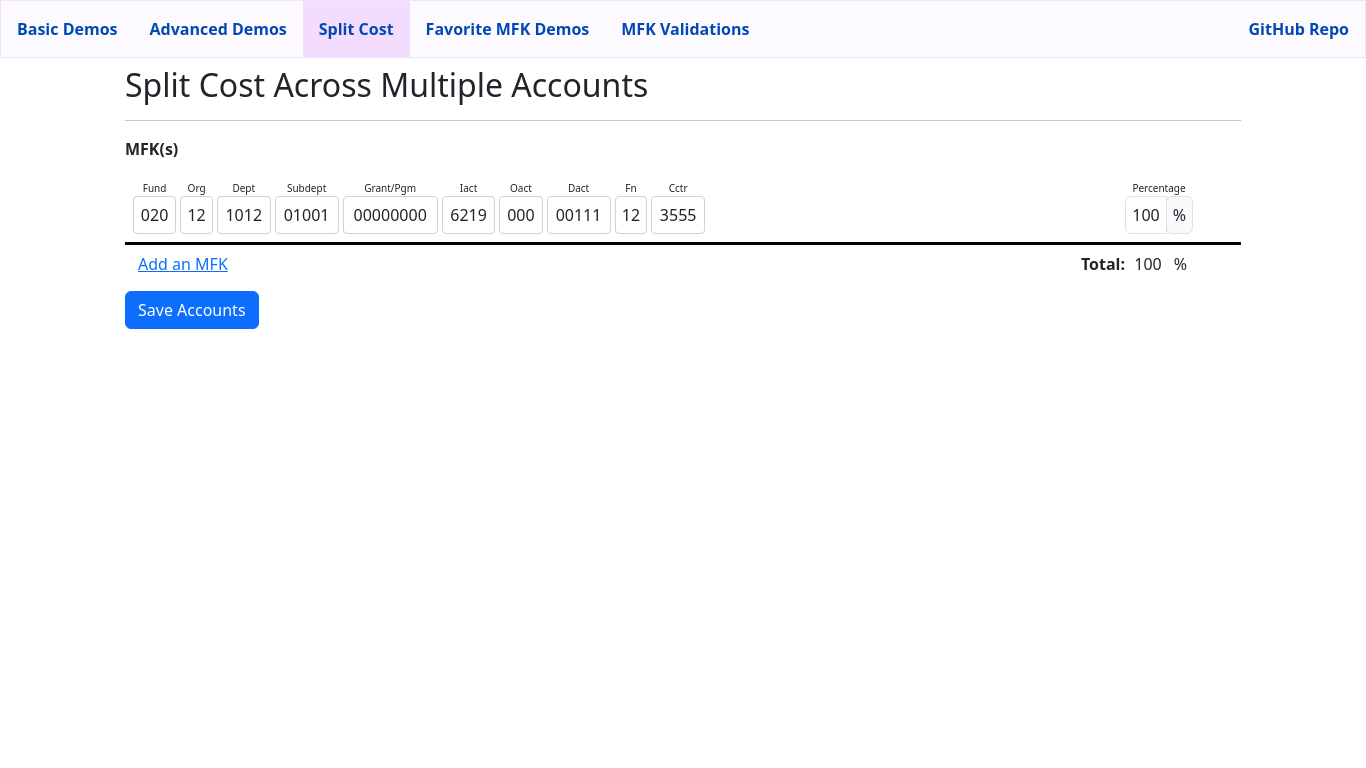
Test case: Split Cost Demos › should allow save two MFKs
Click the button with id "saveBtn": (192, 310) [125,291,259,329]
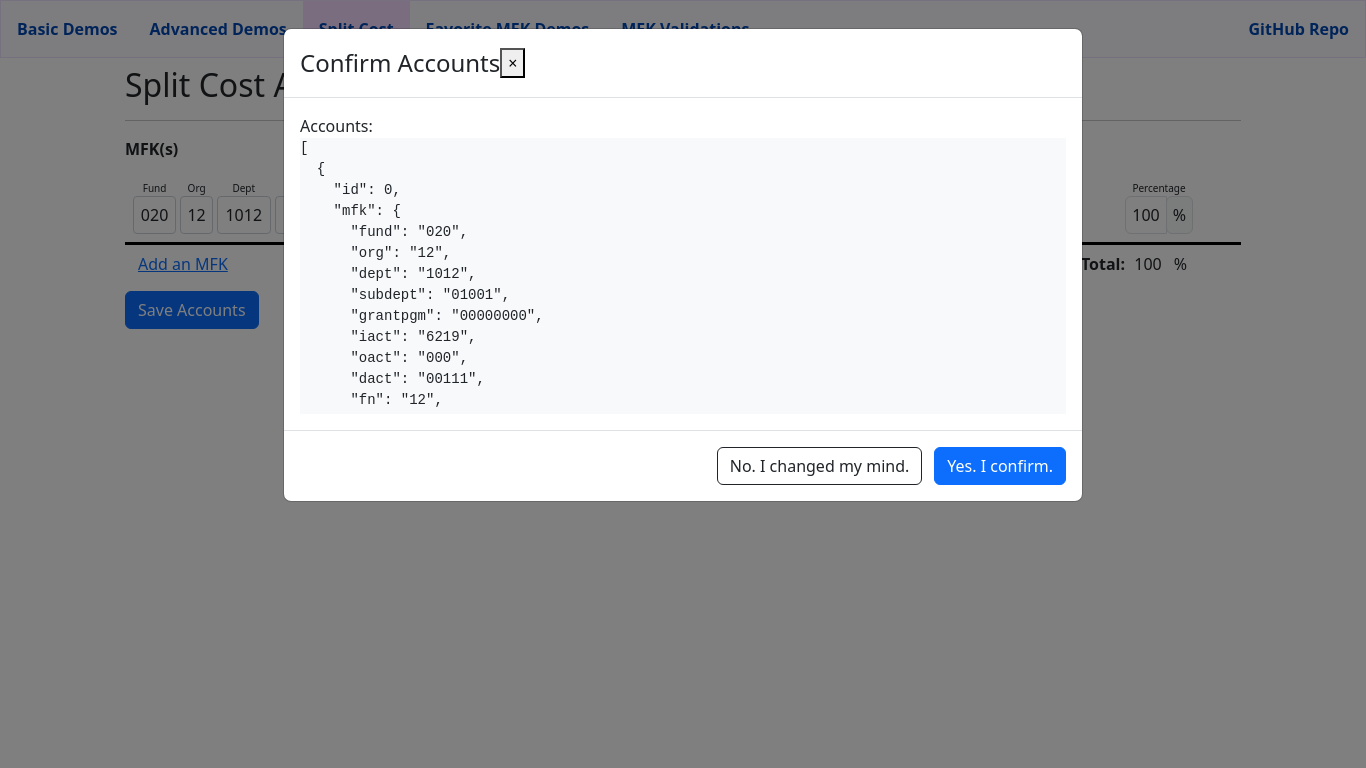
Now the element with class "modal-dialog" is shown, box [283,28,1083,502]
Click the button with id "confirmBtn": (1000, 466) [934,447,1066,485]
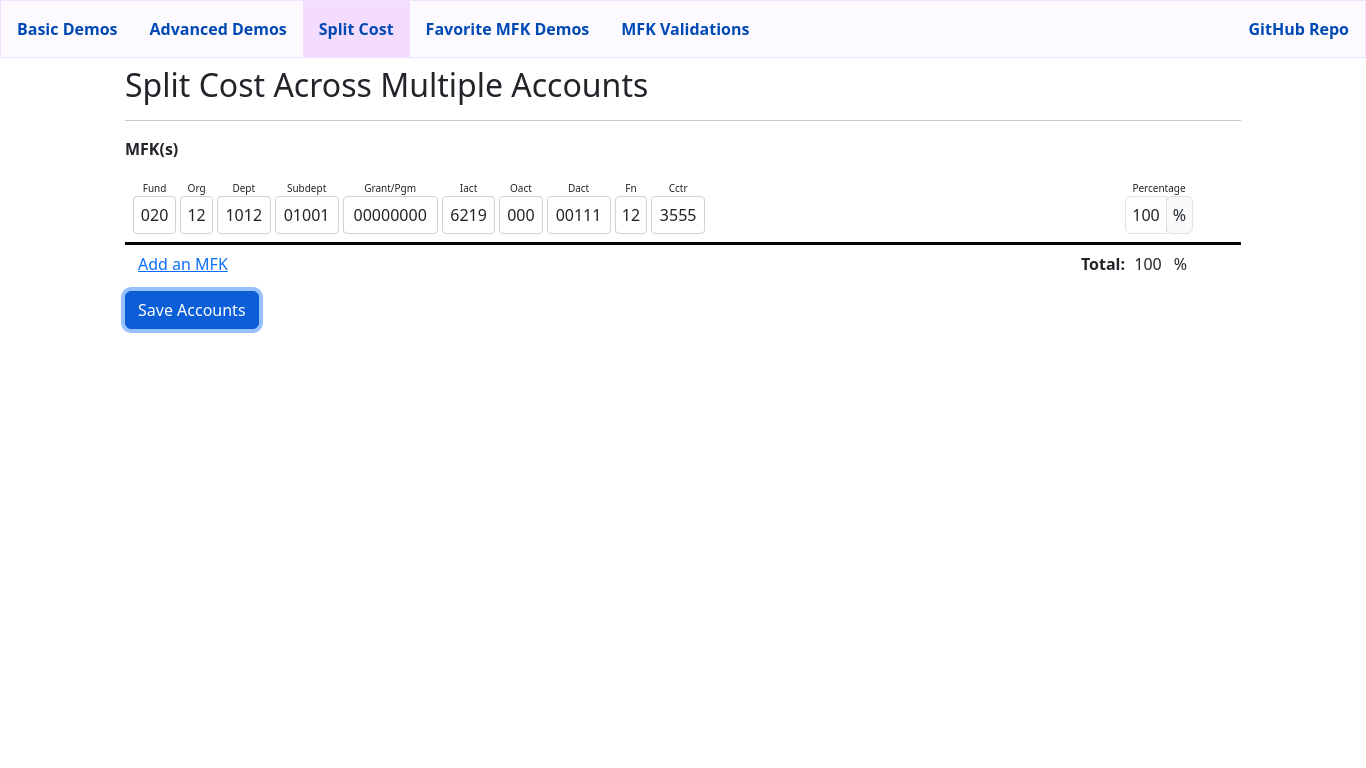
Now the element with class "modal-dialog" is gone
